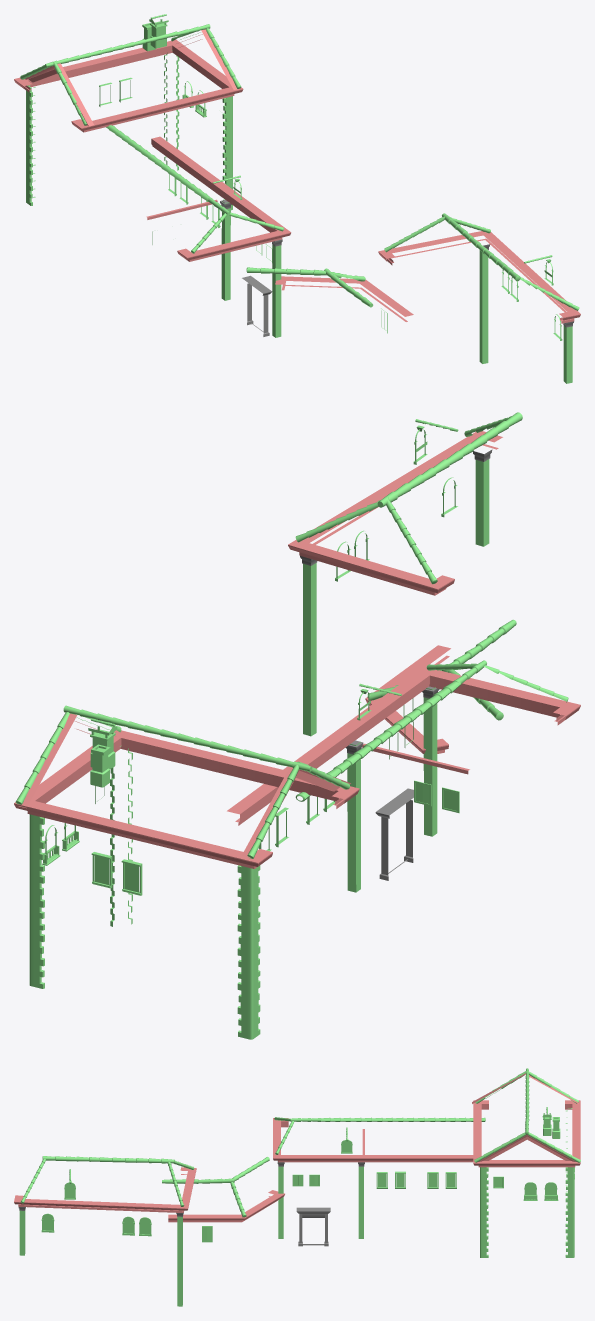
The model's file is S_Envi_Fyz_BuildingMerge_02g.gltf.
The picture shows the model from 3 angles, top to bottom: view 1: azimuth 30°, elevation 25°; view 2: azimuth 150°, elevation 25°; view 3: azimuth 270°, elevation 25°; orthographic projection. The views are drawn at different scales.
Visible parts, largest first — view 1: S_Envi_Fyz_BuildingMerge_02g; view 2: S_Envi_Fyz_BuildingMerge_02g; view 3: S_Envi_Fyz_BuildingMerge_02g.
Part boxes in pixels (x1,y1,x2,y2): S_Envi_Fyz_BuildingMerge_02g: (14,14,580,383); S_Envi_Fyz_BuildingMerge_02g: (14,412,580,1039); S_Envi_Fyz_BuildingMerge_02g: (14,1068,580,1306).
Bounding box in the file's own units: 21.75 × 16.78 × 54.24.
